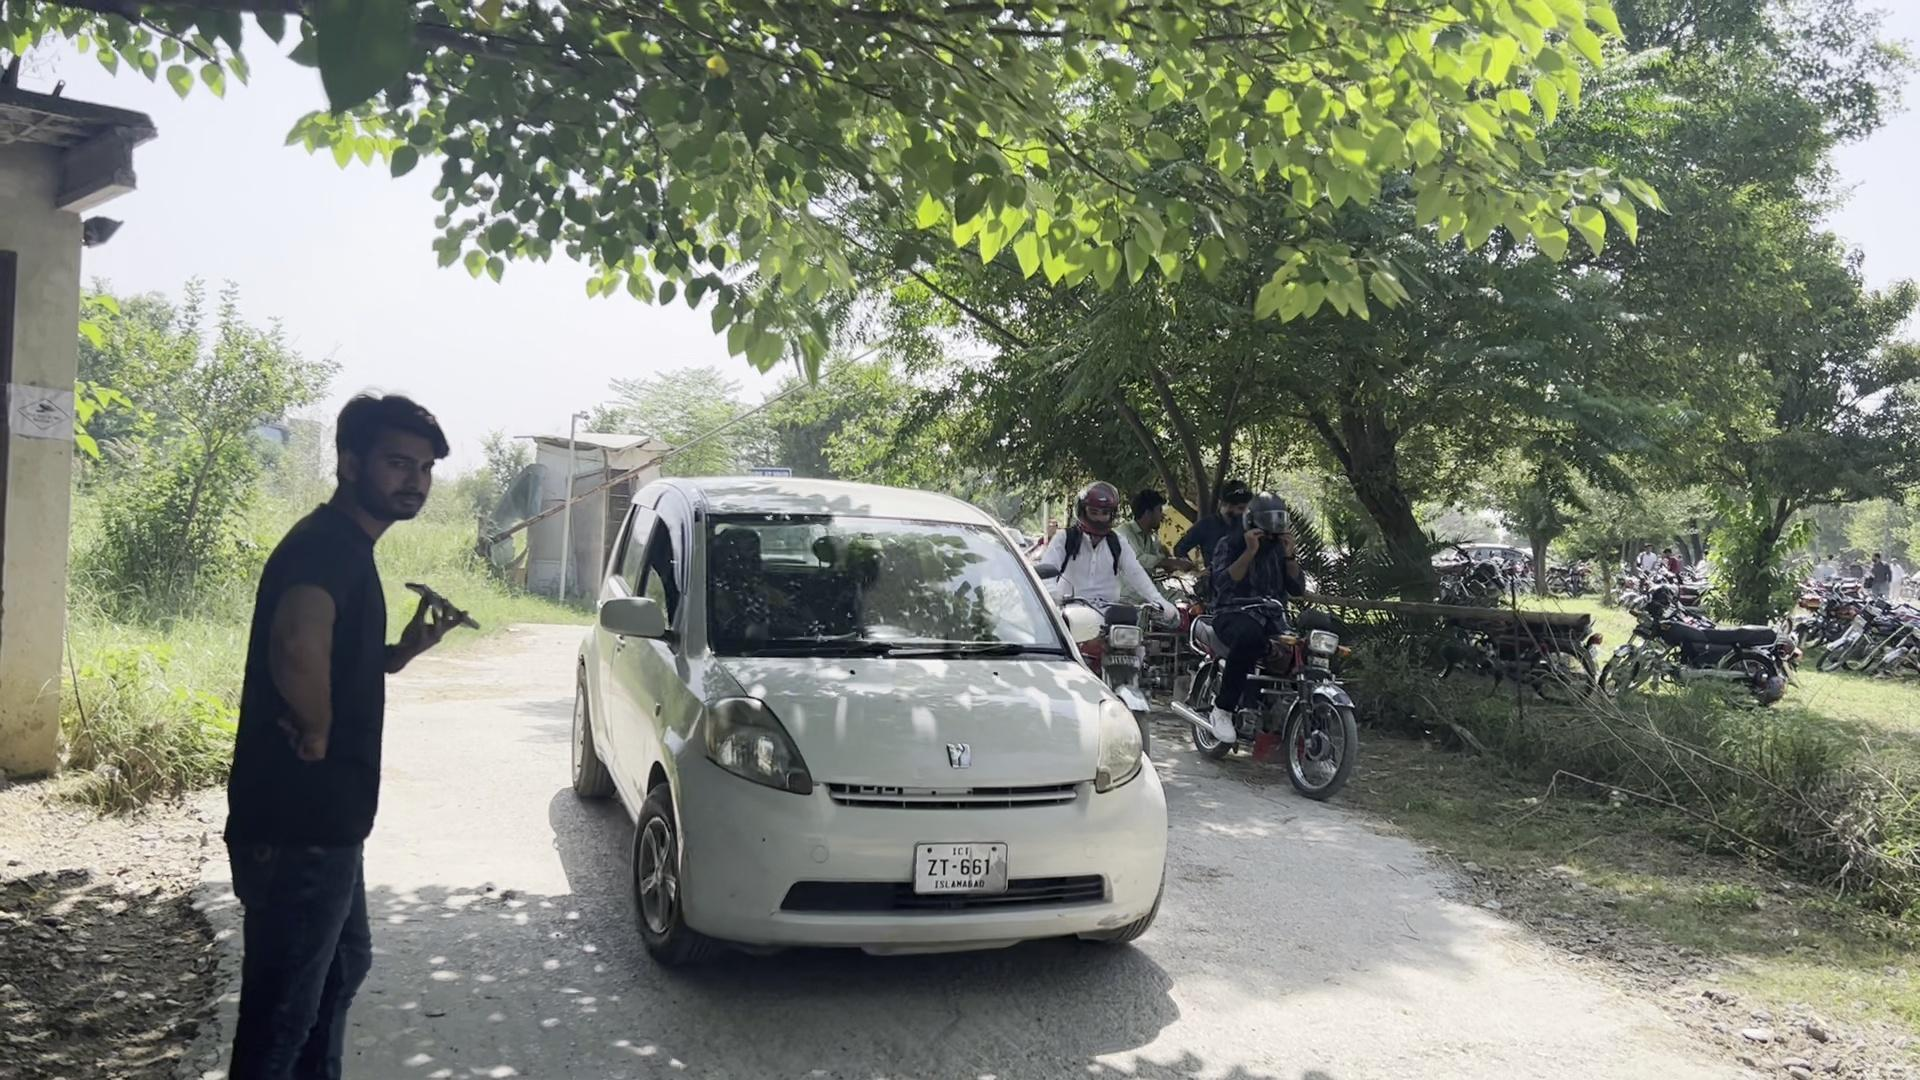windshield: (687, 510, 1077, 667)
